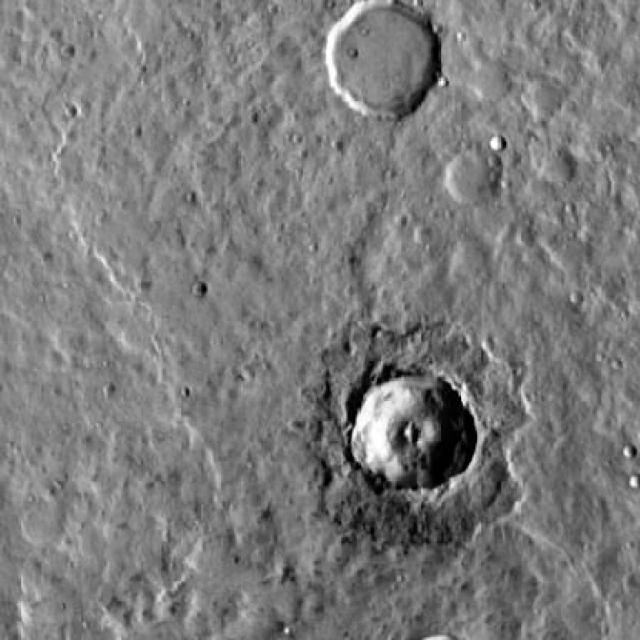crater: (322, 0, 446, 123), (350, 376, 475, 498), (442, 152, 502, 212), (515, 75, 556, 116), (538, 150, 573, 184), (191, 281, 207, 297), (491, 135, 507, 150)
